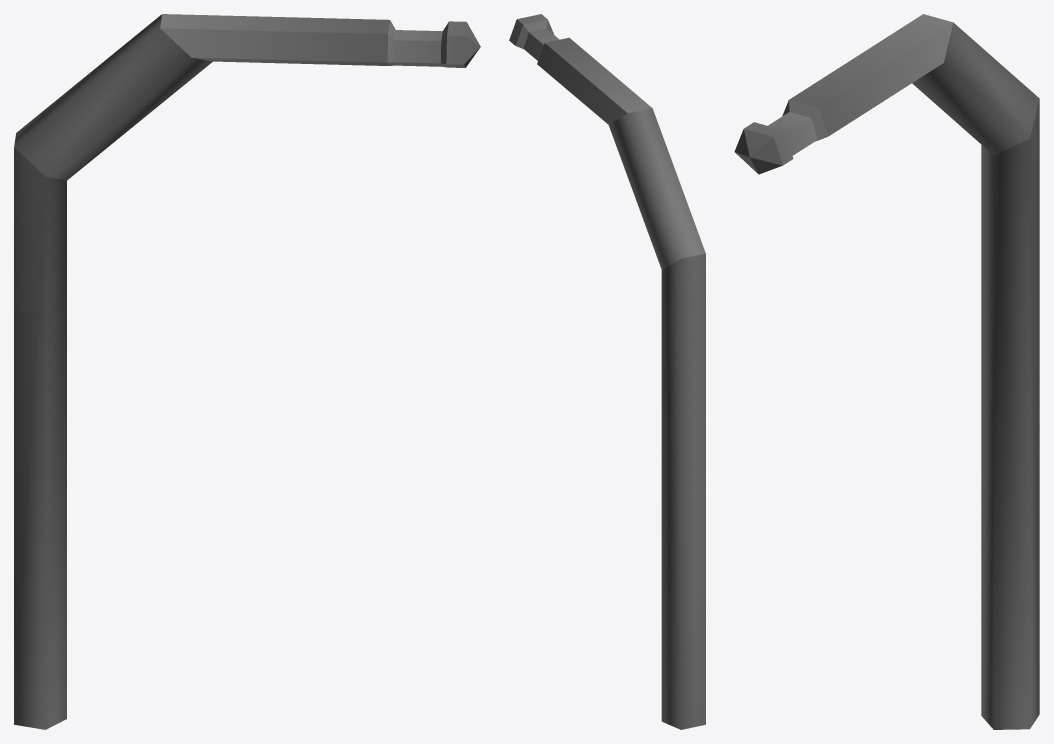
File: PROP_025_Stand.fbx
3 renders of one model, left to right at view 1: azimuth 30°, elevation 25°; view 2: azimuth 150°, elevation 25°; view 3: azimuth 270°, elevation 25°, orthographic. The views are drawn at different scales.
Visible parts, largest first — view 1: PROP_025_Stand; view 2: PROP_025_Stand; view 3: PROP_025_Stand.
Part boxes in pixels (x1,y1,x2,y2): PROP_025_Stand: [14, 14, 480, 729]; PROP_025_Stand: [509, 14, 705, 729]; PROP_025_Stand: [734, 14, 1039, 729].
Size of the model in its own units: 7.51 by 14.47 by 5.36.
